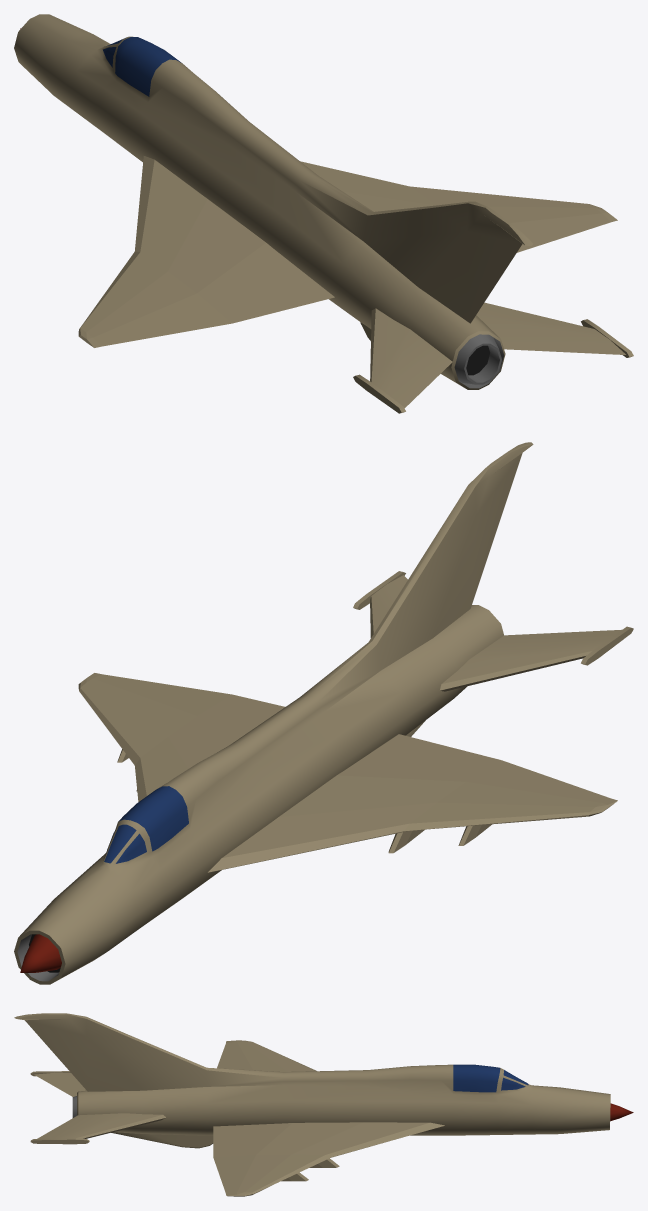
3 views of the same model, one above another, from view 1: azimuth 30°, elevation 25°; view 2: azimuth 150°, elevation 25°; view 3: azimuth 270°, elevation 25° (orthographic). The views are drawn at different scales.
Parts seen in each view (by area): view 1: j7g; view 2: j7g; view 3: j7g.
Boxes of the visible parts, left/top/right/bottom form: j7g: left=14, top=14, right=633, bottom=413; j7g: left=14, top=442, right=633, bottom=984; j7g: left=14, top=1013, right=633, bottom=1196.
Size of the model in its own units: 8.81 by 3.57 by 14.9.
